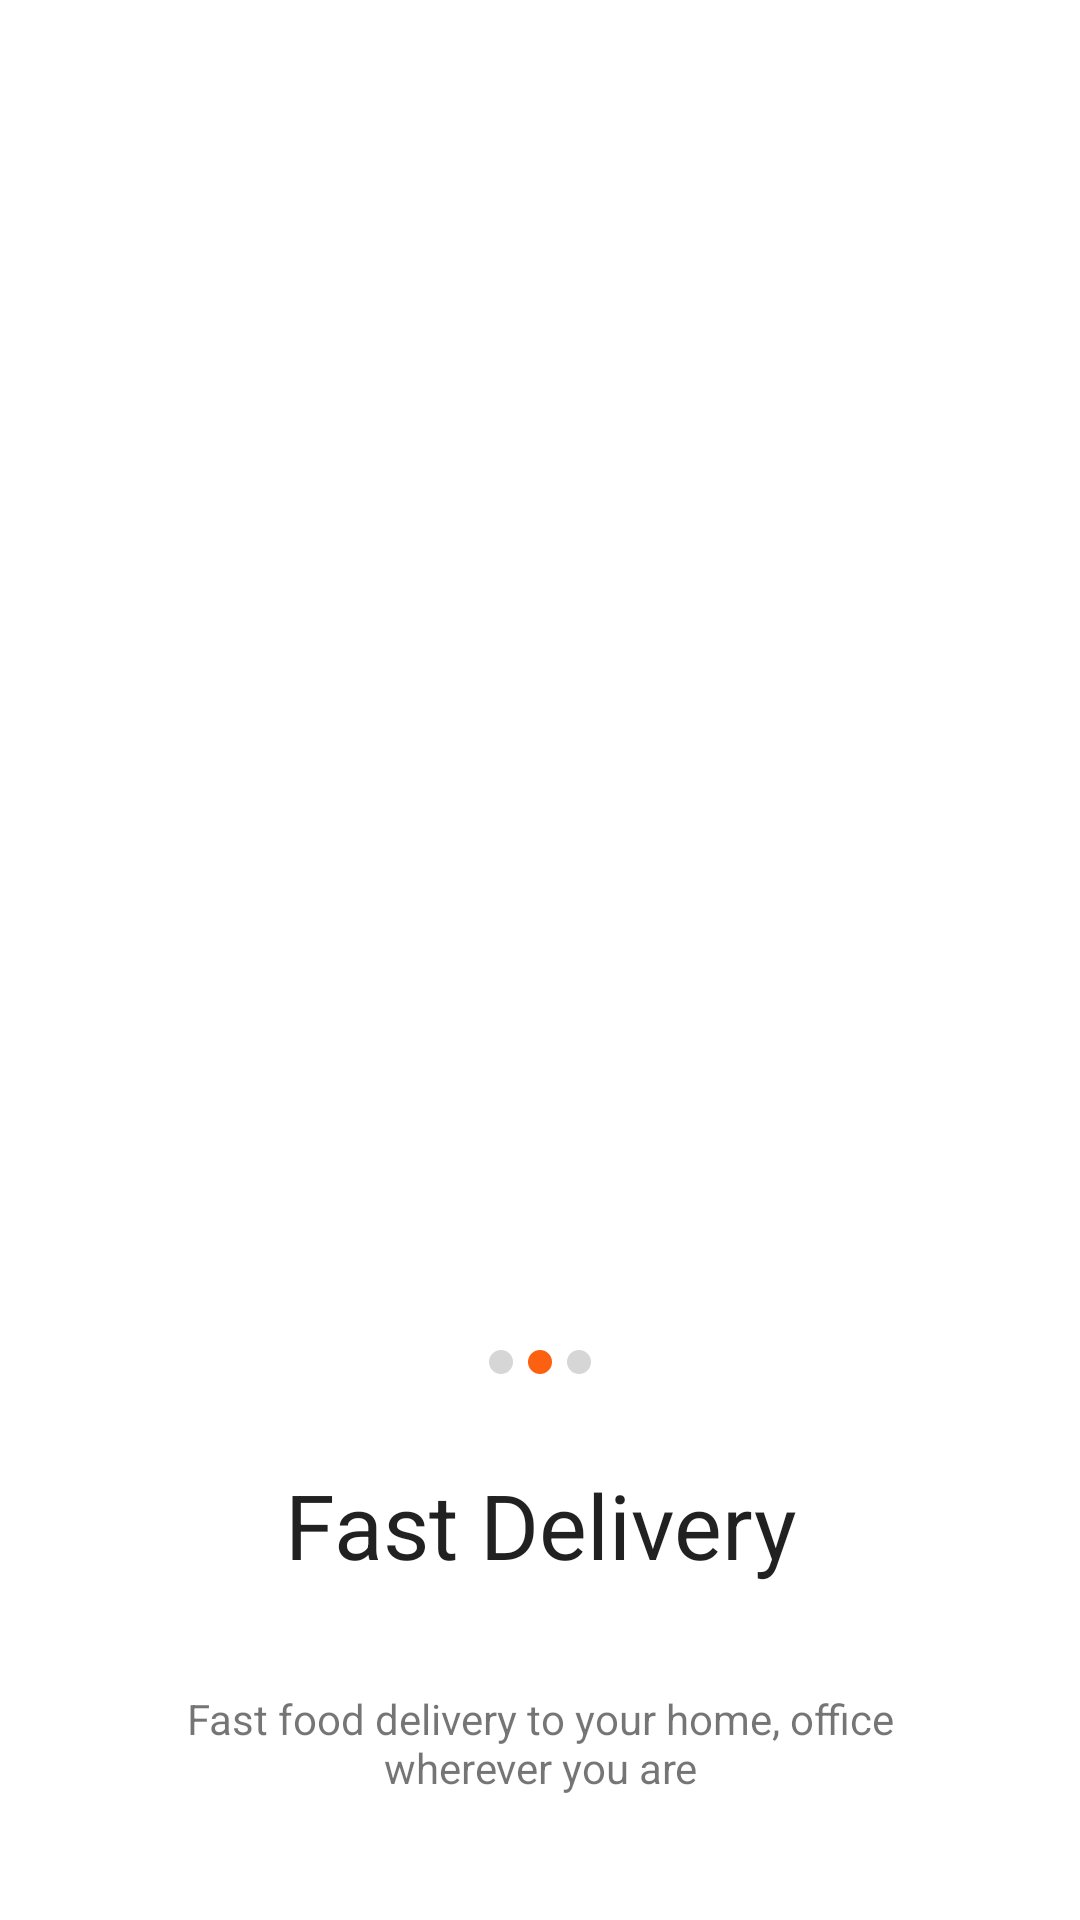

Point at icon controls on the screen. Image size 1080 x 1920, points as (x,y).
center slider indicators: (540,1362)
